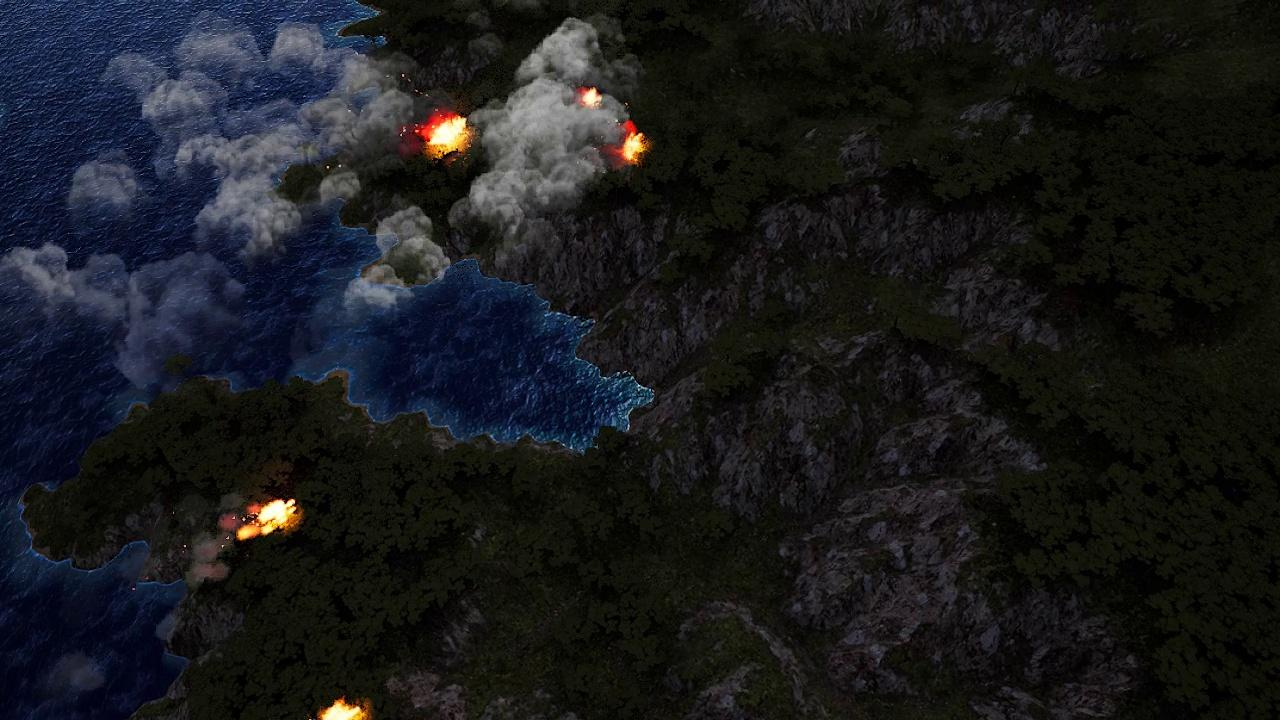fire: (241, 497, 299, 541), (423, 115, 469, 155), (619, 129, 648, 163), (319, 701, 368, 720), (579, 88, 600, 106)
smoke: (4, 14, 629, 404), (345, 204, 454, 316), (175, 484, 251, 594), (65, 150, 138, 221)
